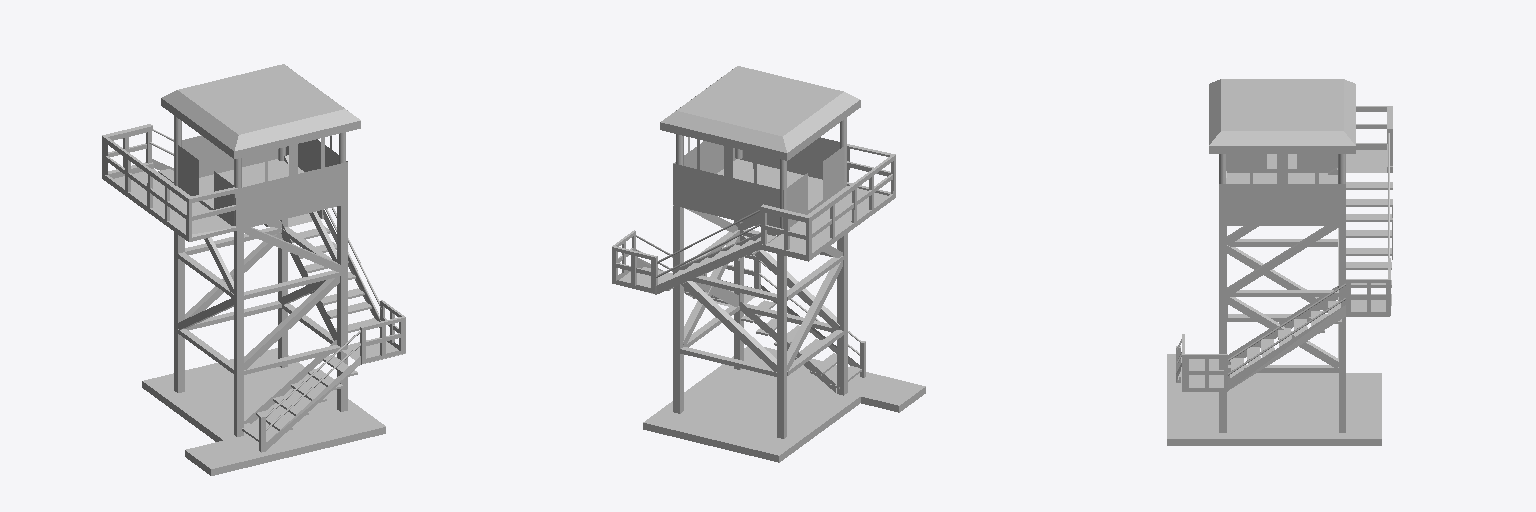
Rendered from WatchTower.obj.
The picture shows the model from 3 angles: view 1: azimuth 30°, elevation 25°; view 2: azimuth 150°, elevation 25°; view 3: azimuth 270°, elevation 25°; orthographic projection.
Parts seen in each view (by area): view 1: Cube_Cube.001, Cube.062_Cube.079, Cube.063_Cube.080, Cube.009, Cube.008, Cube.010, Cube.021, Cube.055_Cube.071, Cube.024, Cube.023, Cube.007_Cube.000, Cube.016_Cube.029 (+5 smaller); view 2: Cube_Cube.001, Cube.062_Cube.079, Cube.063_Cube.080, Cube.007_Cube.000, Cube.010, Cube.009, Cube.023, Cube.020, Cube.046_Cube.058, Cube.021, Cube.015_Cube.027, Cube.008 (+4 smaller); view 3: Cube_Cube.001, Cube.062_Cube.079, Cube.063_Cube.080, Cube.008, Cube.007_Cube.000, Cube.025, Cube.019, Cube.054_Cube.070, Cube.034_Cube.060, Cube.020, Cube.012_Cube.030, Cube.018_Cube.033 (+2 smaller).
Part boxes in pixels (bbox=[...]): Cube_Cube.001: bbox=[102, 64, 360, 241]; Cube.062_Cube.079: bbox=[142, 348, 385, 475]; Cube.063_Cube.080: bbox=[244, 210, 405, 452]; Cube.009: bbox=[234, 229, 243, 436]; Cube.008: bbox=[337, 204, 347, 411]; Cube.010: bbox=[174, 232, 184, 392]; Cube.021: bbox=[244, 277, 339, 369]; Cube.055_Cube.071: bbox=[360, 316, 405, 364]; Cube.024: bbox=[244, 227, 340, 271]; Cube.023: bbox=[185, 232, 281, 318]; Cube.007_Cube.000: bbox=[278, 218, 287, 367]; Cube.016_Cube.029: bbox=[244, 270, 340, 299]; Cube_Cube.001: bbox=[655, 66, 895, 294]; Cube.062_Cube.079: bbox=[643, 346, 925, 462]; Cube.063_Cube.080: bbox=[619, 257, 865, 392]; Cube.007_Cube.000: bbox=[673, 205, 683, 413]; Cube.010: bbox=[777, 233, 786, 438]; Cube.009: bbox=[837, 186, 847, 395]; Cube.023: bbox=[681, 281, 776, 371]; Cube.020: bbox=[787, 261, 842, 370]; Cube.046_Cube.058: bbox=[612, 246, 657, 293]; Cube.021: bbox=[740, 235, 839, 330]; Cube.015_Cube.027: bbox=[680, 347, 776, 376]; Cube.008: bbox=[734, 159, 743, 369]; Cube_Cube.001: bbox=[1209, 79, 1392, 259]; Cube.062_Cube.079: bbox=[1167, 354, 1381, 445]; Cube.063_Cube.080: bbox=[1176, 286, 1391, 390]; Cube.008: bbox=[1219, 226, 1226, 432]; Cube.007_Cube.000: bbox=[1339, 226, 1345, 432]; Cube.025: bbox=[1227, 226, 1338, 292]; Cube.019: bbox=[1227, 297, 1338, 367]; Cube.054_Cube.070: bbox=[1184, 354, 1227, 391]; Cube.034_Cube.060: bbox=[1346, 279, 1389, 316]; Cube.020: bbox=[1227, 245, 1327, 312]; Cube.012_Cube.030: bbox=[1226, 290, 1338, 296]; Cube.018_Cube.033: bbox=[1227, 239, 1337, 246].
Bounding box in the file's own units: 6.38 × 9.27 × 6.18.